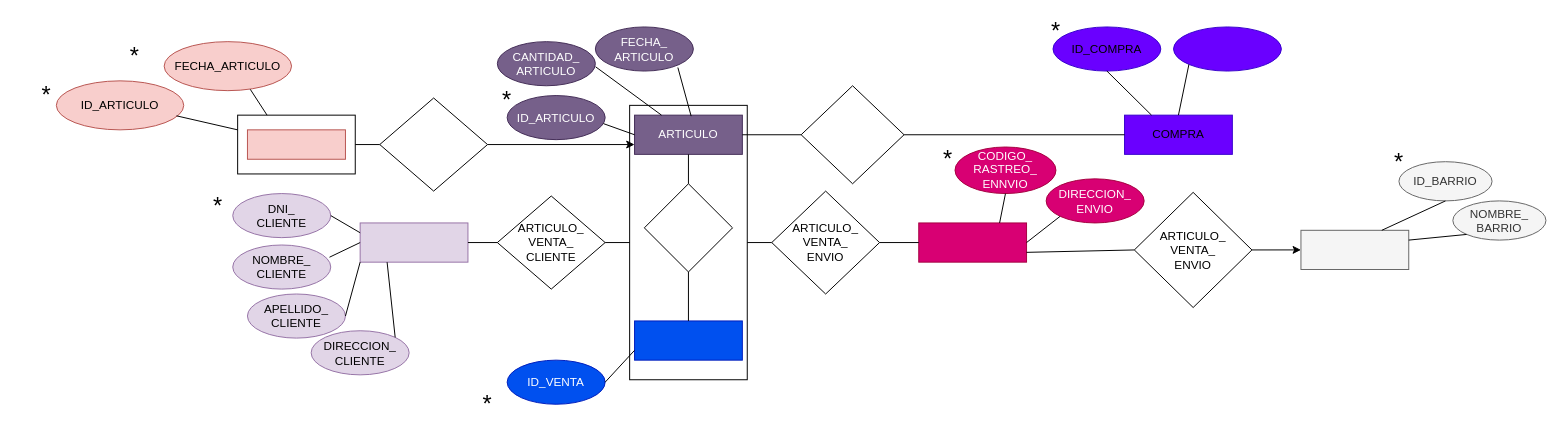
Image size: 1563x435. Some labels were removed from this diagram. The shapes that lost their labels are listed below. From the top down, each one's centre as x and y in pixels, then its label:
the point at 1227,48: FECHA_COMPRA
the point at 295,144: PRECIO_ ARTICULO
the point at 433,144: BITACORA
the point at 852,134: ARTICULO_ COMPRA
the point at 413,242: CLIENTE
the point at 688,227: ARTICULO_ VENTA
the point at 972,242: ENVIO
the point at 1354,249: BARRIO
the point at 688,340: VENTA
